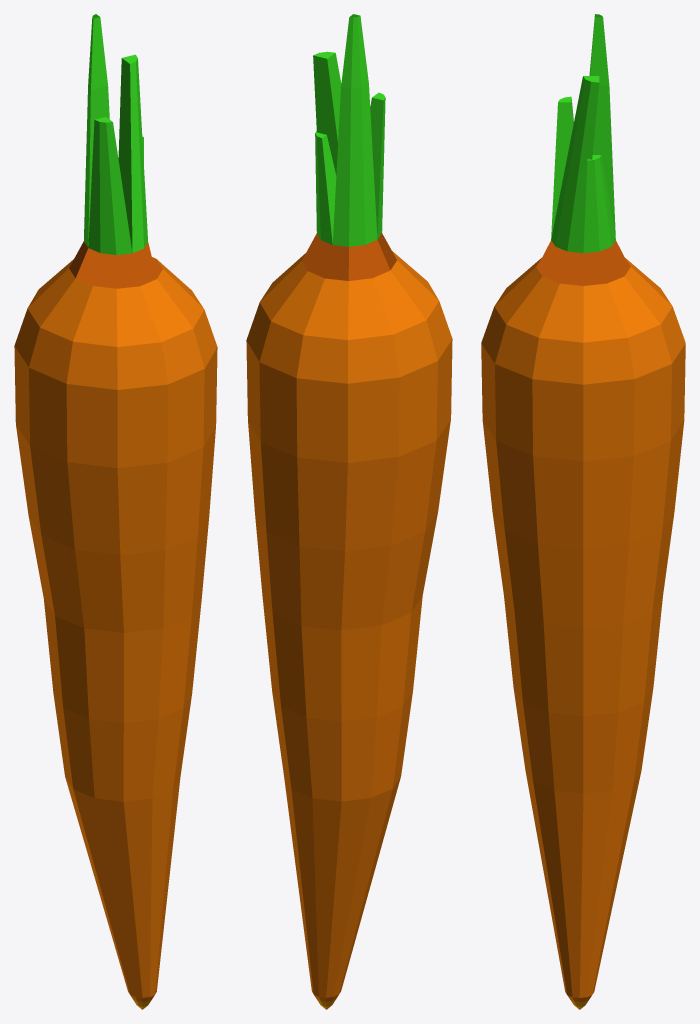
The model's file is LowPoly-Carrot.fbx.
The picture shows the model from 3 angles, left to right: view 1: azimuth 30°, elevation 25°; view 2: azimuth 150°, elevation 25°; view 3: azimuth 270°, elevation 25°; orthographic projection. The views are drawn at different scales.
Visible parts, largest first — view 1: Cylinder; view 2: Cylinder; view 3: Cylinder.
Part boxes in pixels (bbox=[...]): Cylinder: bbox=[14, 14, 217, 1009]; Cylinder: bbox=[246, 14, 452, 1009]; Cylinder: bbox=[481, 14, 685, 1009].
Bounding box in the file's own units: 167 × 913 × 173.
1 material, 1 textured.
